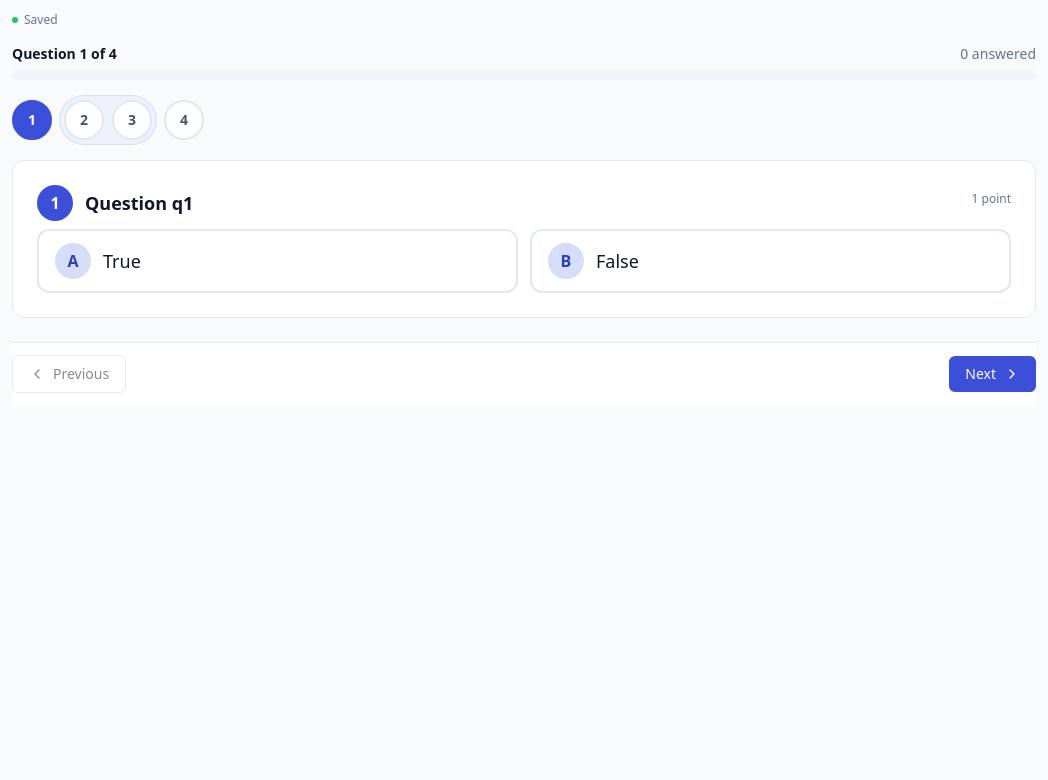
Test case: QuizRunner passages (Phase 20L) › shows an instruction as a callout with no split view
Click the button named "Question 4" at (184, 120), box [164,100,204,140]
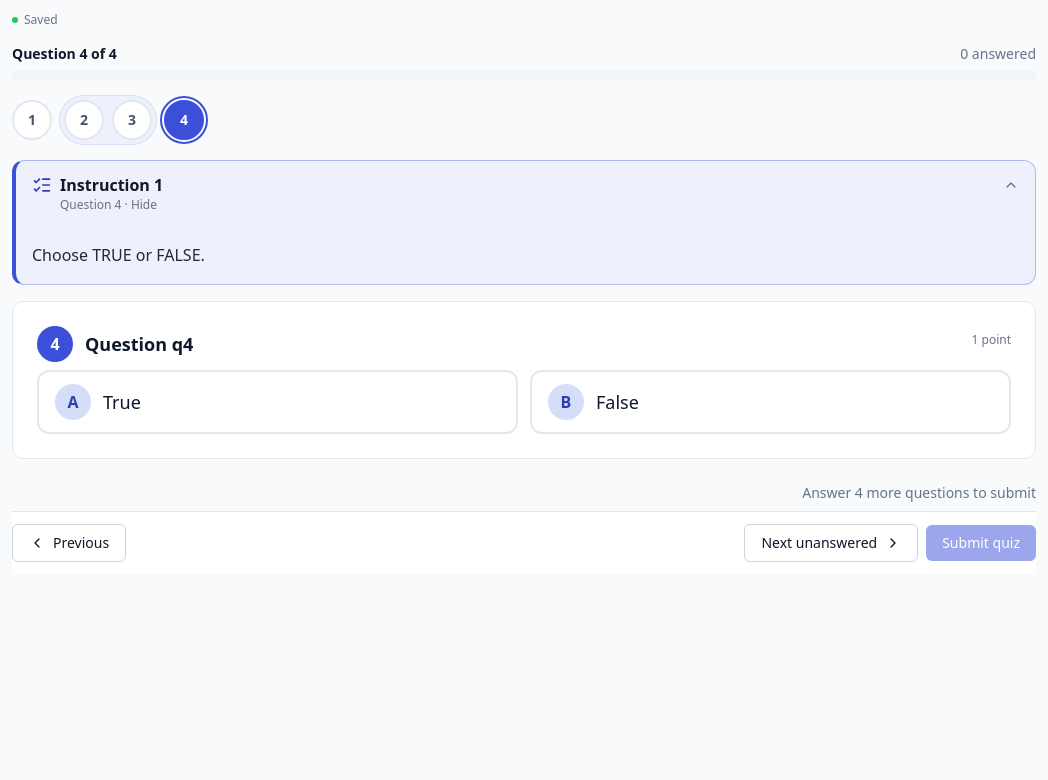
Now the element named "Instruction 1, Question 4" shows "Choose TRUE or FALSE.", box [32,244,205,266]
